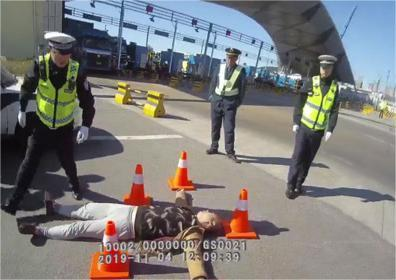down: (24, 185, 223, 280)
up: (1, 29, 98, 214), (281, 53, 343, 200), (205, 47, 249, 162)
